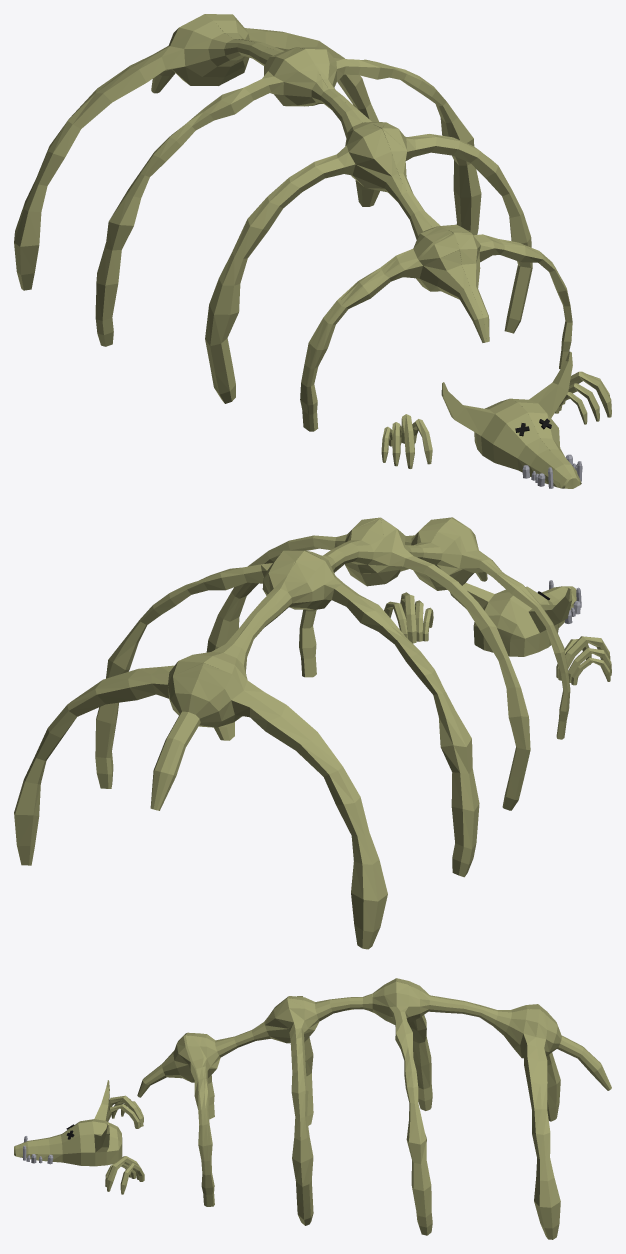
File: Skelett.FBX
3 views of the same model, one above another, from view 1: azimuth 30°, elevation 25°; view 2: azimuth 150°, elevation 25°; view 3: azimuth 270°, elevation 25° (orthographic). The views are drawn at different scales.
Visible parts, largest first — view 1: Cylinder001; view 2: Cylinder001; view 3: Cylinder001.
Boxes of the visible parts, x1,y1,x2,y2 form: Cylinder001: [14, 14, 611, 488]; Cylinder001: [14, 517, 611, 949]; Cylinder001: [14, 978, 611, 1239].
Bounding box in the file's own units: 162 × 113 × 310.
